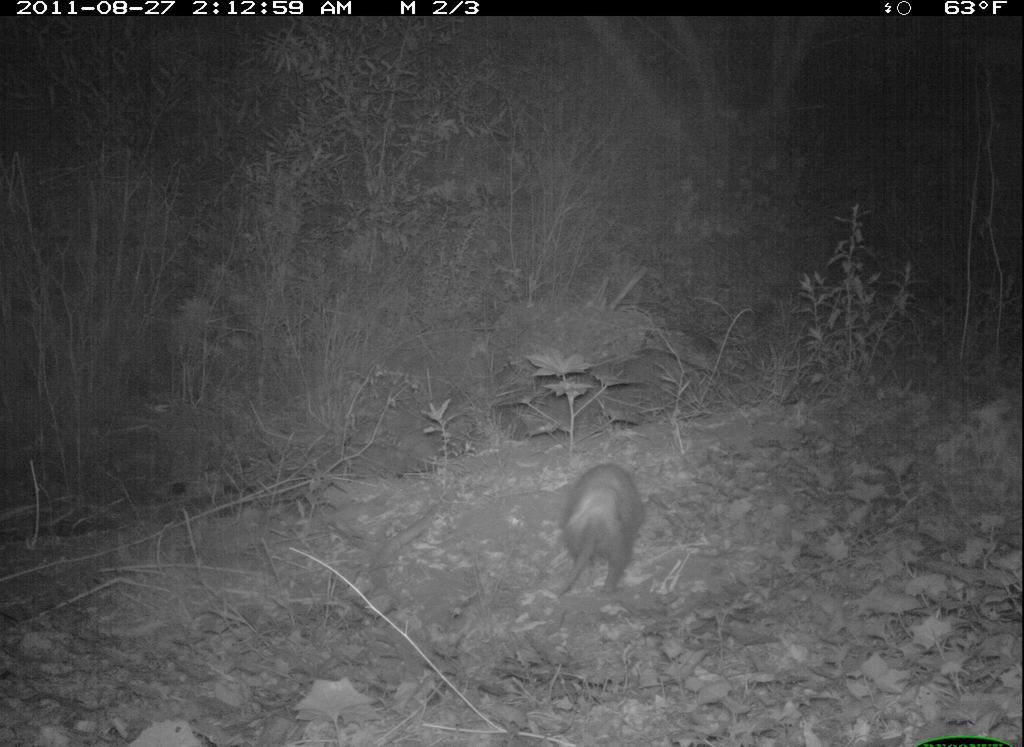opossum: (552, 463, 648, 615)
